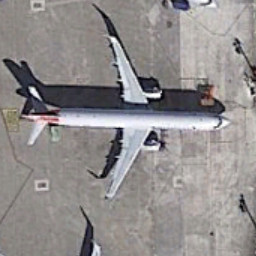Airplane: (15, 23, 236, 212)
